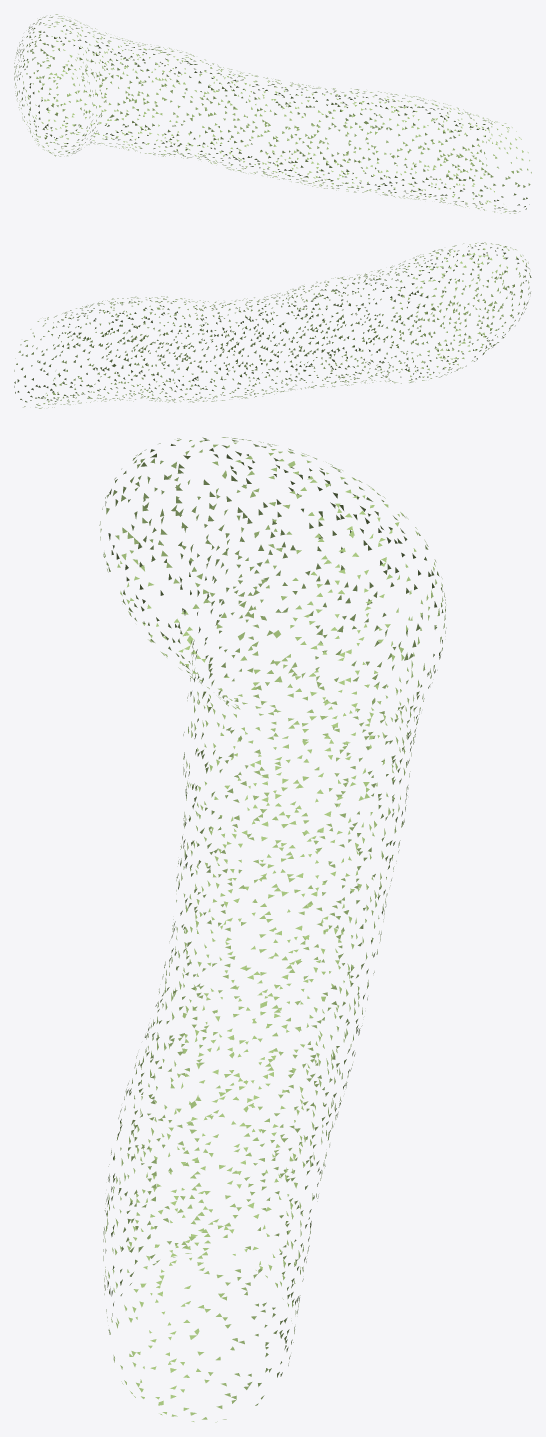
File: morph_012.glb
3 renders of one model, top to bottom at view 1: azimuth 30°, elevation 25°; view 2: azimuth 150°, elevation 25°; view 3: azimuth 270°, elevation 25°, orthographic. The views are drawn at different scales.
Size of the model in its own units: 118 by 64.46 by 37.03.
